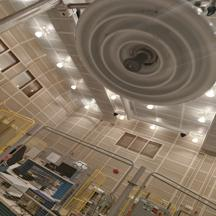insulator: (69, 0, 214, 121)
